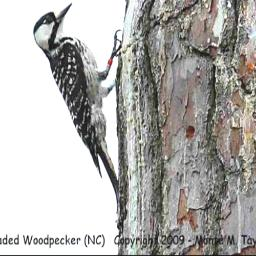Woodpecker: (30, 2, 126, 216)
